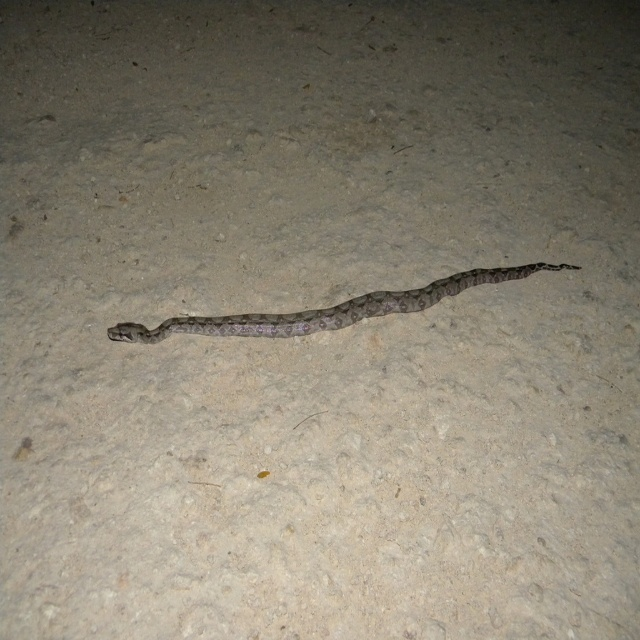Snake: (106, 258, 582, 340)
